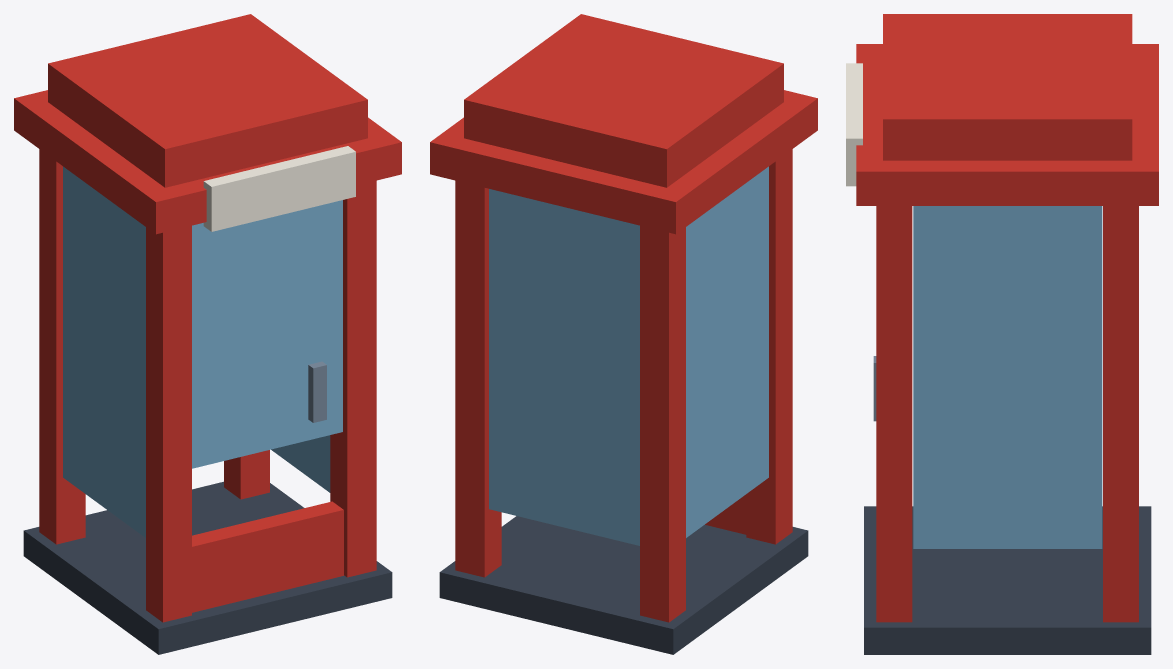
The model's file is cittaCabina.glb.
3 renders of one model, left to right at view 1: azimuth 30°, elevation 25°; view 2: azimuth 150°, elevation 25°; view 3: azimuth 270°, elevation 25°, orthographic. The views are drawn at different scales.
Visible parts, largest first — view 1: cittaCabina_red, cittaCabina_glass, cittaCabina_steelDark, cittaCabina_white, cittaCabina_steel; view 2: cittaCabina_red, cittaCabina_glass, cittaCabina_steelDark; view 3: cittaCabina_red, cittaCabina_glass, cittaCabina_steelDark, cittaCabina_white.
Part boxes in pixels (x1,y1,x2,y2): cittaCabina_red: (14, 14, 401, 622); cittaCabina_glass: (63, 166, 342, 537); cittaCabina_steelDark: (23, 481, 392, 654); cittaCabina_white: (203, 146, 355, 231); cittaCabina_steel: (308, 361, 326, 422); cittaCabina_red: (430, 14, 817, 622); cittaCabina_glass: (489, 166, 768, 545); cittaCabina_steelDark: (439, 516, 808, 654); cittaCabina_red: (856, 14, 1158, 622); cittaCabina_glass: (913, 206, 1102, 548); cittaCabina_steelDark: (864, 506, 1151, 654); cittaCabina_white: (846, 63, 862, 186).
Bounding box in the file's own units: 1.6 × 3.08 × 1.66.
